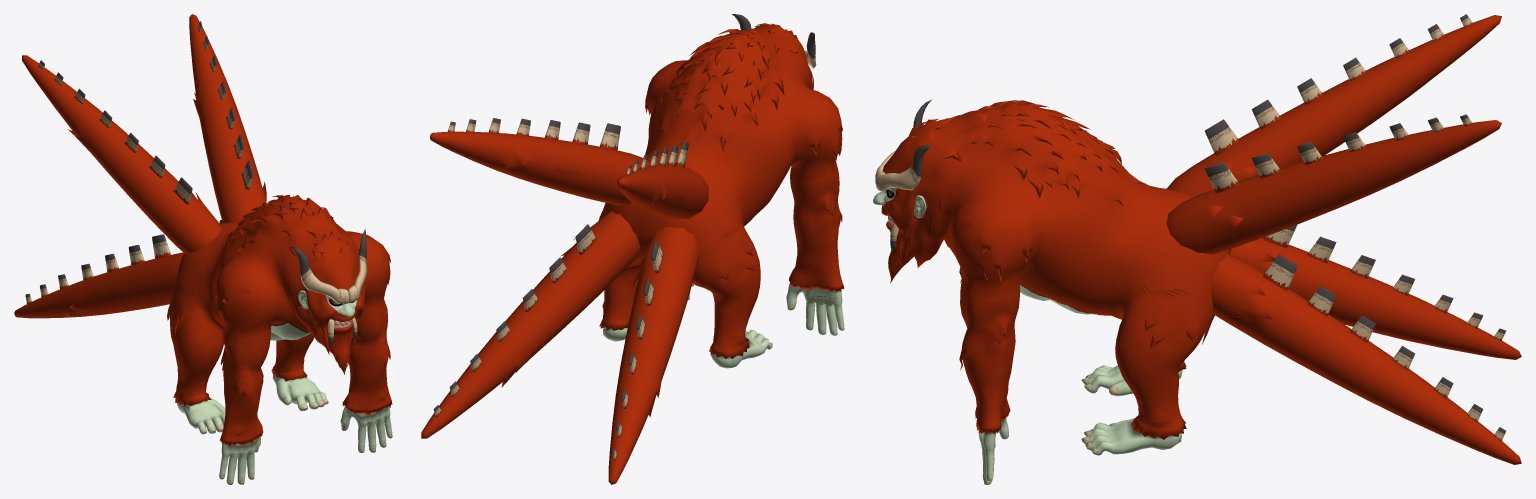
Rendered from songoku_jonbi.glb.
3 views of the same model, side by side, from view 1: azimuth 30°, elevation 25°; view 2: azimuth 150°, elevation 25°; view 3: azimuth 270°, elevation 25° (orthographic). The views are drawn at different scales.
Parts seen in each view (by area): view 1: Object_3; view 2: Object_3; view 3: Object_3.
Part boxes in pixels (x1,y1,x2,y2): Object_3: [14, 14, 392, 484]; Object_3: [421, 14, 844, 484]; Object_3: [873, 14, 1521, 484].
Bounding box in the file's own units: 1315 × 2097 × 3289.
Materials: 1 (1 with a texture image).
